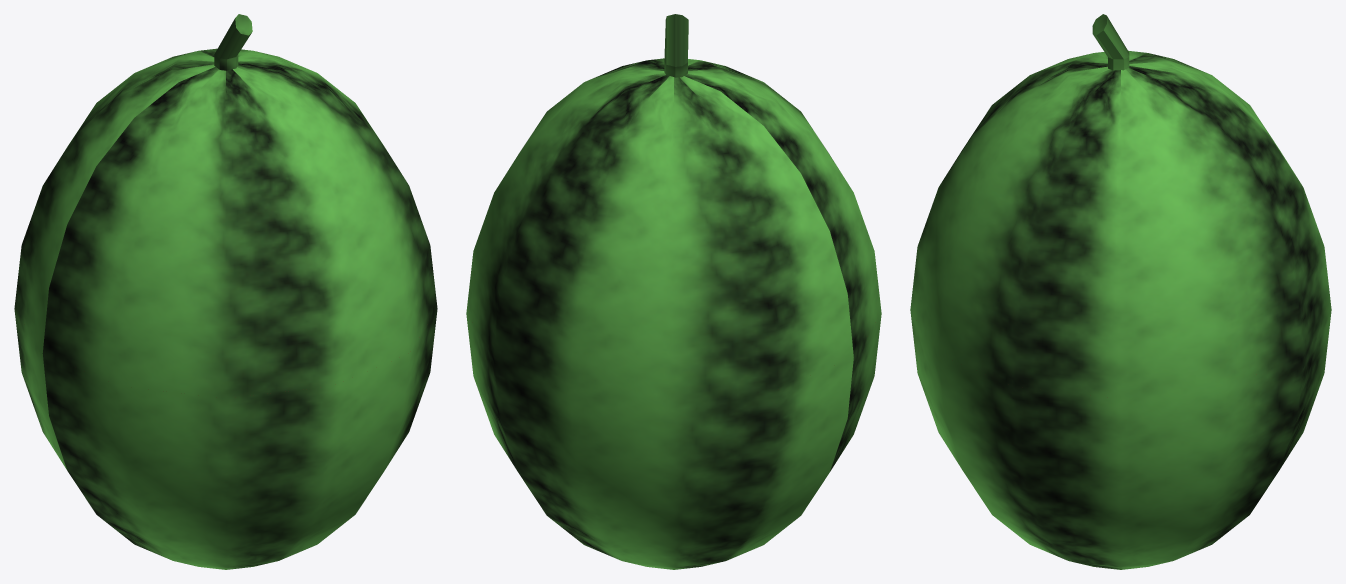
File: fruits_2.fbx
The picture shows the model from 3 angles, left to right: view 1: azimuth 30°, elevation 25°; view 2: azimuth 150°, elevation 25°; view 3: azimuth 270°, elevation 25°; orthographic projection.
Parts seen in each view (by area): view 1: karpuz; view 2: karpuz; view 3: karpuz.
Part boxes in pixels (left/top/right/bottom): karpuz: left=14, top=14, right=437, bottom=569; karpuz: left=466, top=14, right=881, bottom=569; karpuz: left=910, top=14, right=1331, bottom=569.
Size of the model in its own units: 200 by 284 by 200.
